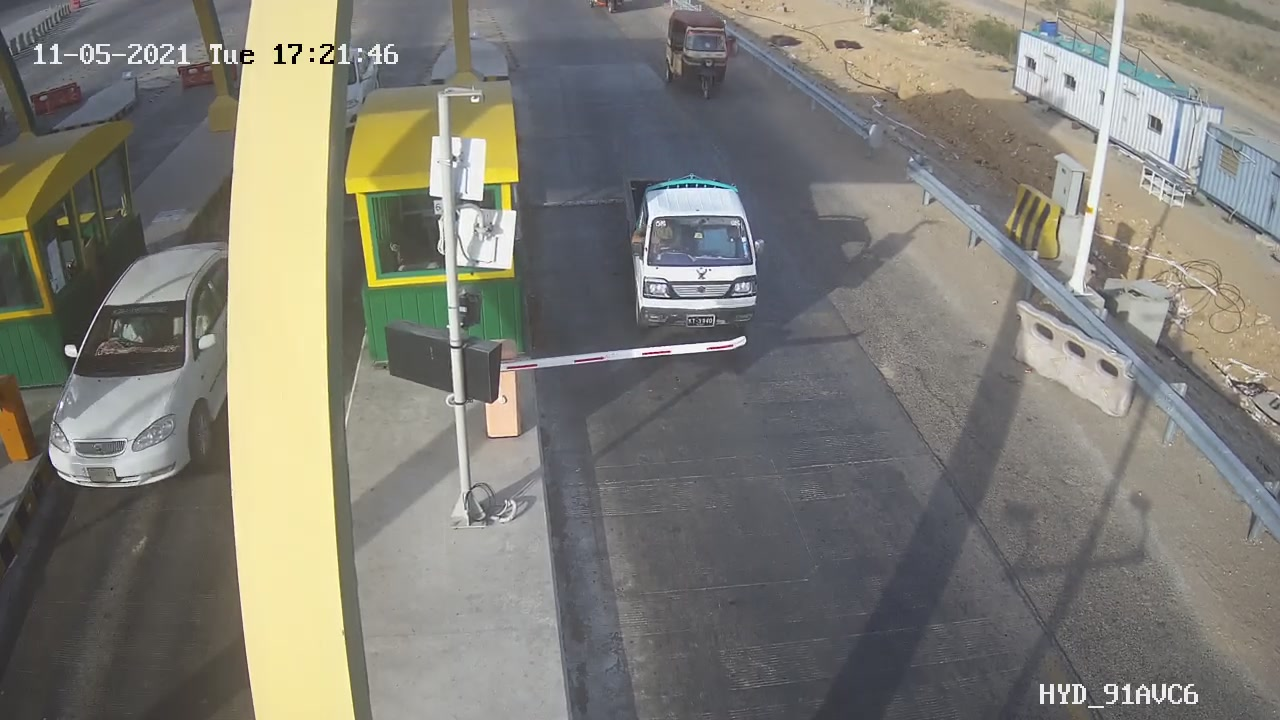F1: (607, 155, 778, 357)
